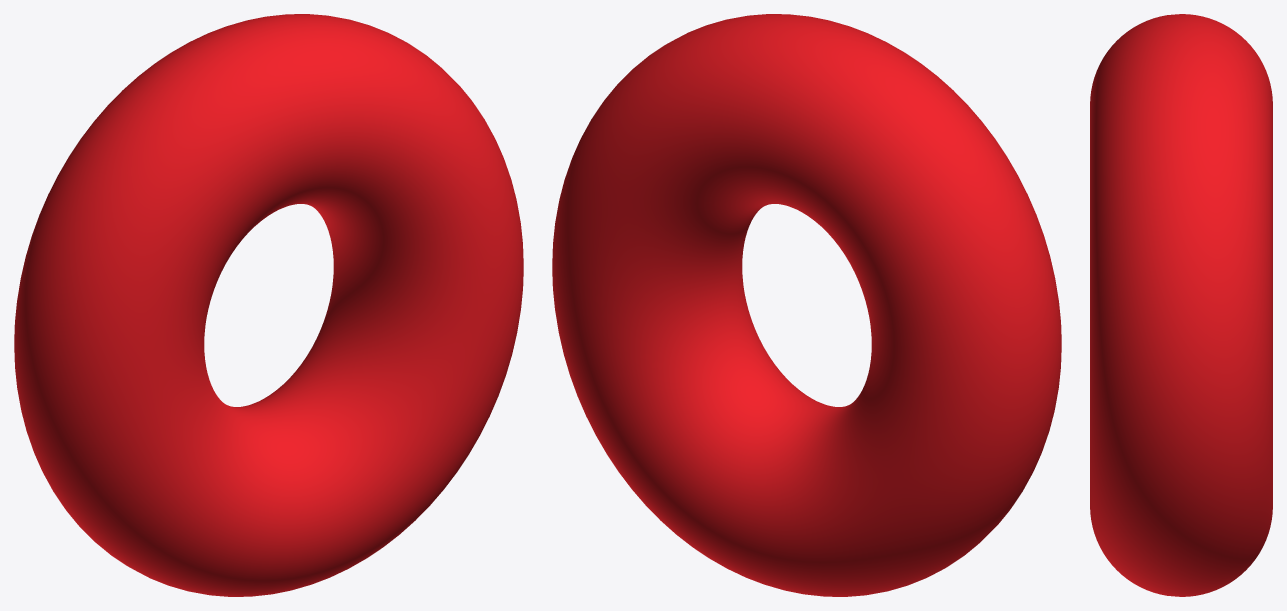
The model's file is Teleport.fbx.
The picture shows the model from 3 angles, left to right: view 1: azimuth 30°, elevation 25°; view 2: azimuth 150°, elevation 25°; view 3: azimuth 270°, elevation 25°; orthographic projection. The views are drawn at different scales.
Parts seen in each view (by area): view 1: root; view 2: root; view 3: root.
Part boxes in pixels (x1,y1,x2,y2): root: [14, 14, 523, 596]; root: [552, 14, 1061, 596]; root: [1090, 14, 1272, 596].
Size of the model in its own units: 0.0829 by 0.0912 by 0.0282.
